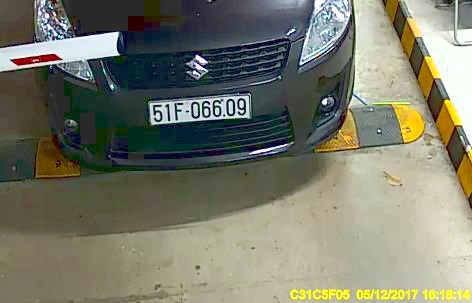plate: (145, 94, 251, 128)
